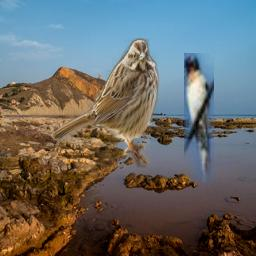Sparrow: (51, 38, 159, 168)
Swallow: (184, 53, 214, 183)
